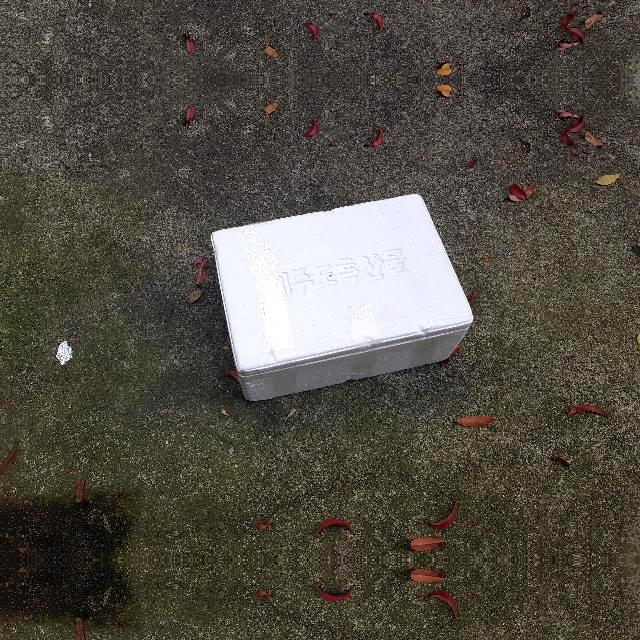Styrofoam: (211, 193, 474, 403), (211, 195, 474, 400)
